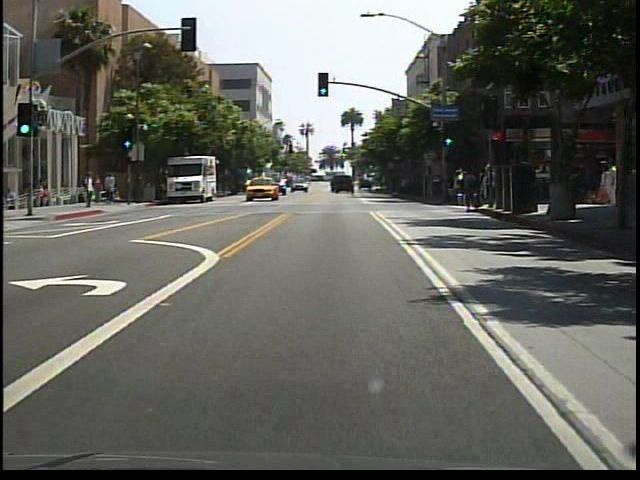person: (103, 170, 120, 206), (84, 172, 98, 210), (93, 175, 106, 206), (41, 179, 52, 207)
